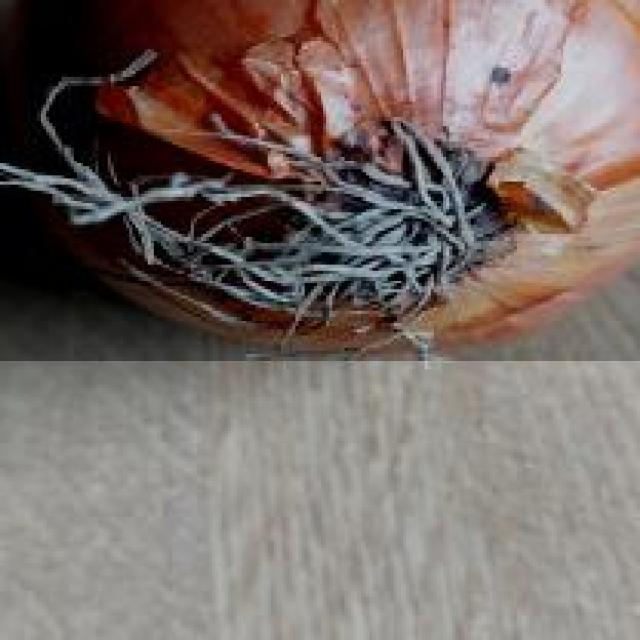onion: (0, 0, 640, 363)
